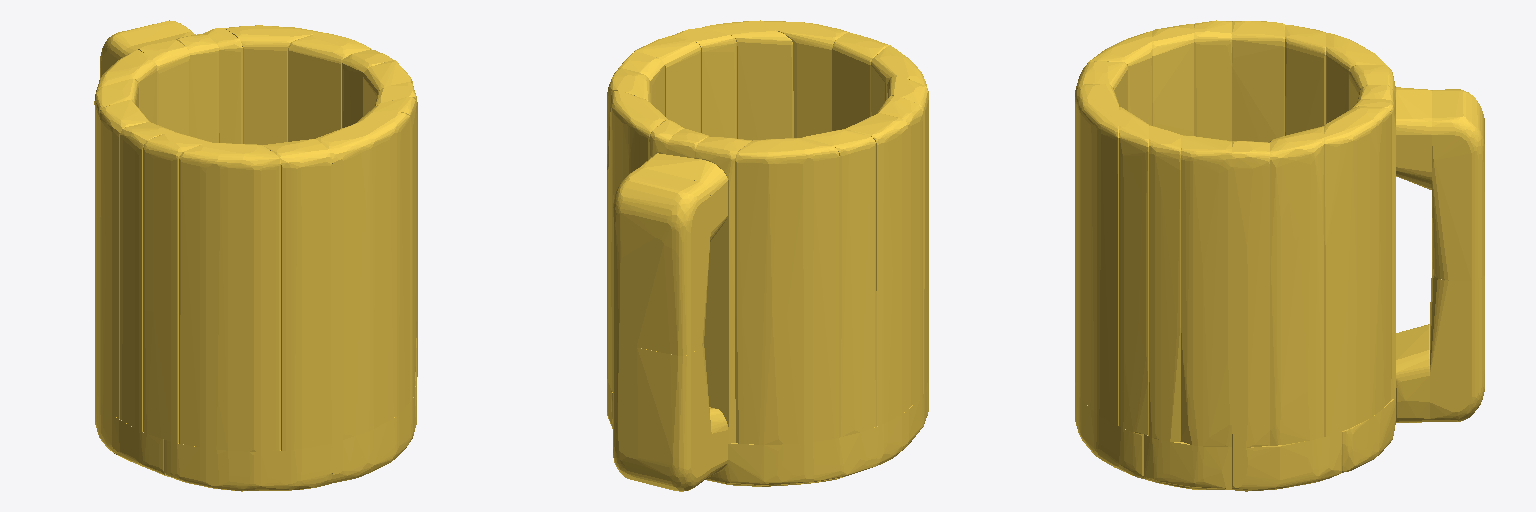
URDF robot description (647.urdf):
<?xml version="1.0" ?>
<robot name="647.urdf">
	<link name="baseLink">
		<inertial>
			<origin rpy="0 0 0" xyz="0 0 0"/>
				<mass value="0.1"/>
				<inertia ixx="6e-5" ixy="0" ixz="0" iyy="6e-5" iyz="0" izz="6e-5"/>
		</inertial>
		<visual>
			<origin rpy="0 0 0" xyz="0 0 0"/>
			<geometry>
				<mesh filename="19_decom_wt.obj" scale="0.86 0.86 0.89"/>
			</geometry>
			<material name="yellow">
				<color rgba="0.98 0.84 0.35 1"/>
			</material>
		</visual>
		<collision>
			<origin rpy="0 0 0" xyz="0 0 0"/>
			<geometry>
				<mesh filename="19_decom_wt.obj" scale="0.86 0.86 0.89"/>
			</geometry>
		</collision>
	</link>
</robot>

--- Facts derived from the render (not from the file) ---
Views: 3 orthographic renders of the robot side by side, from view 1: azimuth 30°, elevation 25°; view 2: azimuth 150°, elevation 25°; view 3: azimuth 270°, elevation 25°.
Robot: 647.urdf — 1 links, 0 joints (none); root link baseLink; default pose: all joints at 0.
Visible links, largest first — view 1: baseLink; view 2: baseLink; view 3: baseLink.
Link boxes in pixels (x1,y1,x2,y2): baseLink: (94,20,417,491); baseLink: (607,20,928,491); baseLink: (1075,20,1484,491).
Size in the robot's own frame: 0.0739 by 0.0937 by 0.0859 metres.
1 mesh visuals loaded from 1 distinct referenced files (1 OBJ).